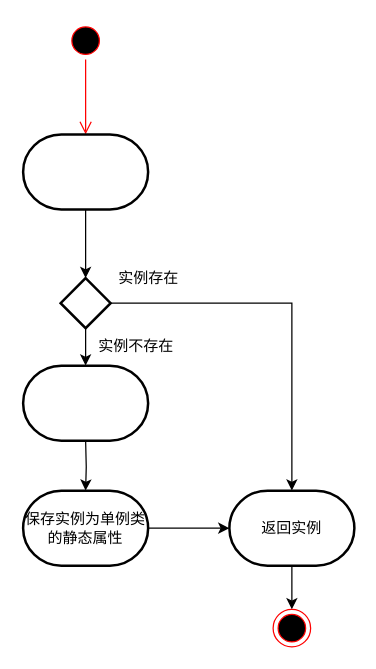
Some shapes in this 376 by 669 pixel diagram are drawn without their labels. Here are the shapes that lost their labels. From the top down, the centre of each, then its label:
At pixel 85 171: "客户端调用获取 单例对象方法".
At pixel 85 402: "新建实例".
